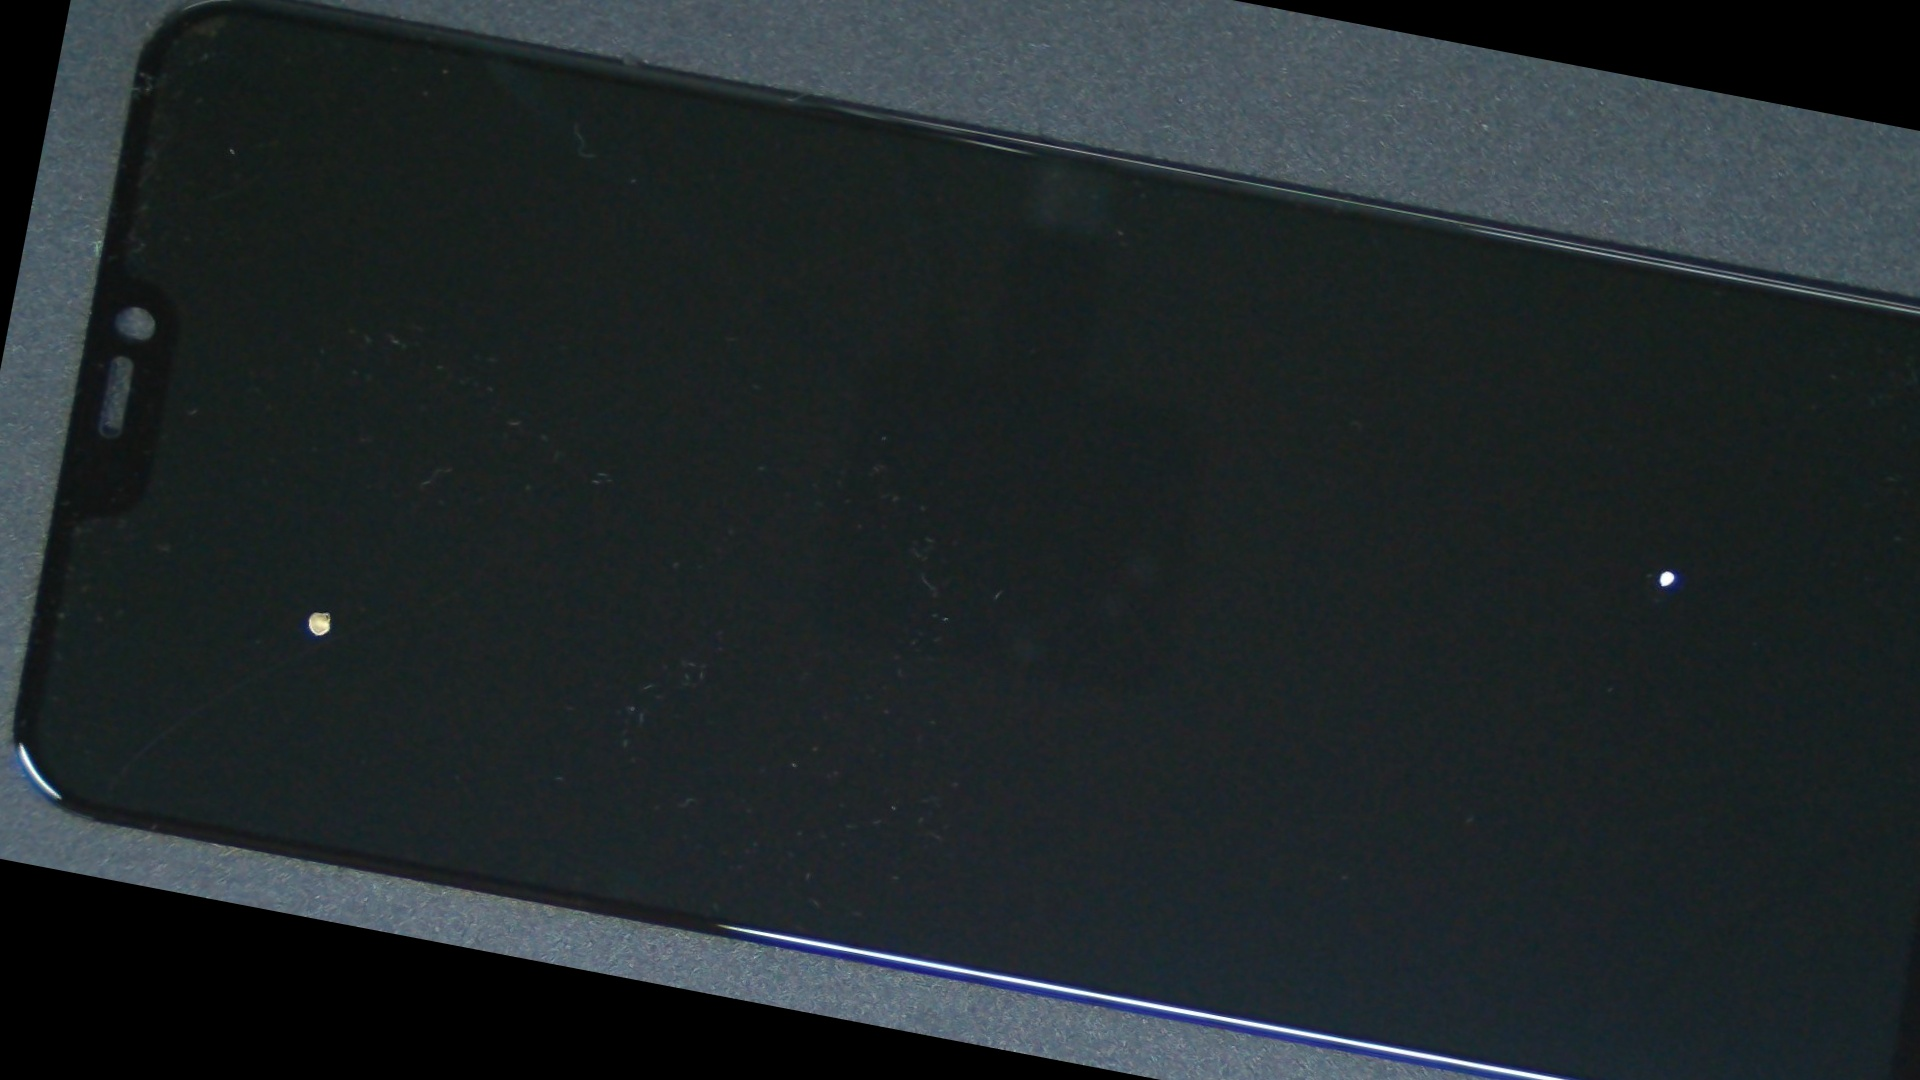oil: (803, 177, 1920, 887), (1018, 63, 1920, 468), (91, 198, 580, 944)
